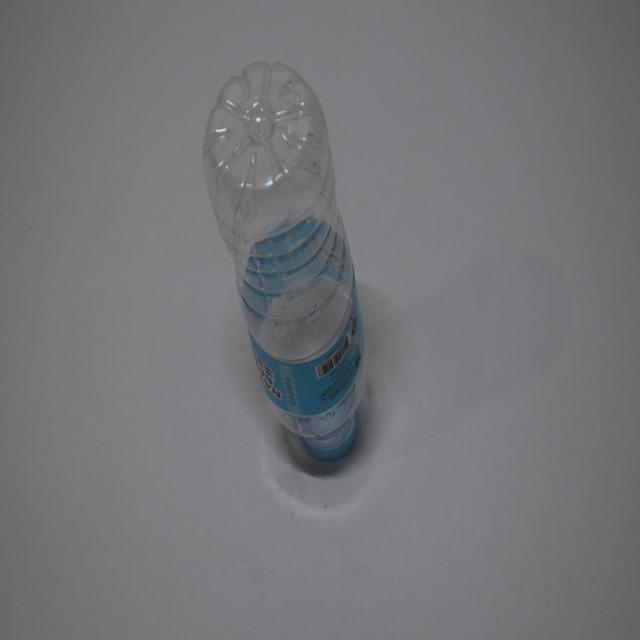empty: (203, 62, 367, 461)
